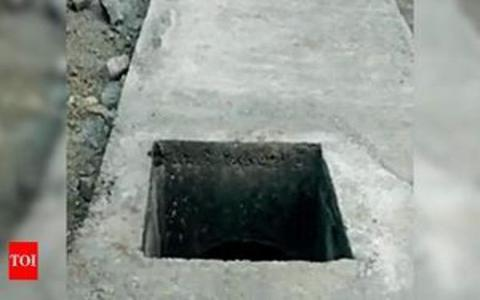open manhole: (131, 128, 362, 272)
